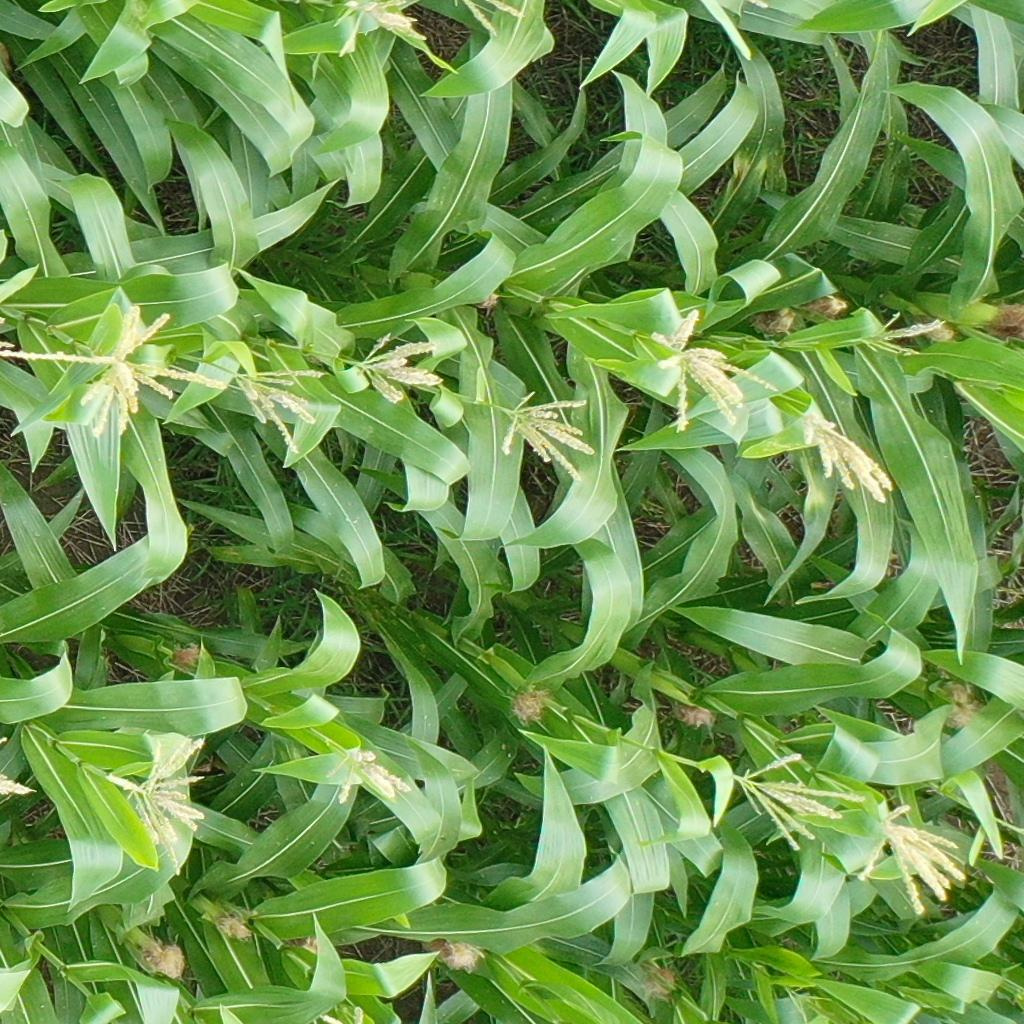Tassel: (1, 307, 230, 438), (95, 735, 207, 881), (647, 309, 781, 430), (734, 751, 867, 858), (858, 800, 967, 916), (502, 386, 603, 483), (233, 365, 330, 459), (801, 411, 896, 505), (356, 329, 446, 406), (333, 1, 430, 59), (327, 743, 415, 806), (861, 312, 945, 358), (460, 1, 526, 38), (1, 770, 40, 801), (317, 1002, 368, 1024)
